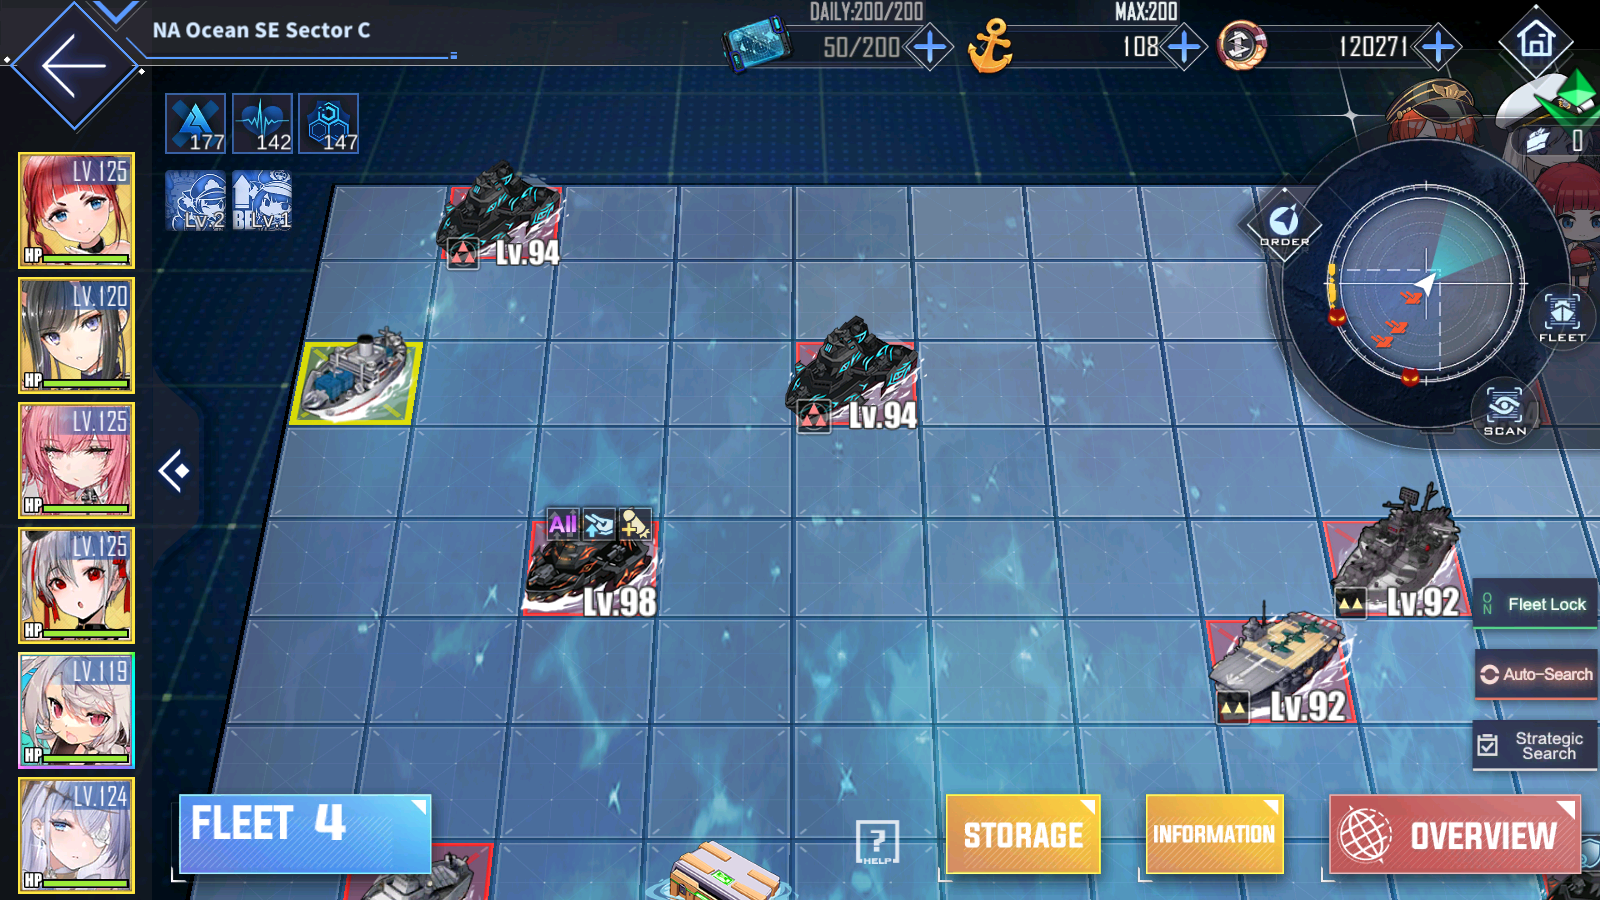enemy: (1322, 484, 1471, 618), (1207, 611, 1357, 723), (519, 505, 658, 616), (784, 315, 919, 427), (433, 162, 562, 265), (349, 842, 490, 900)
